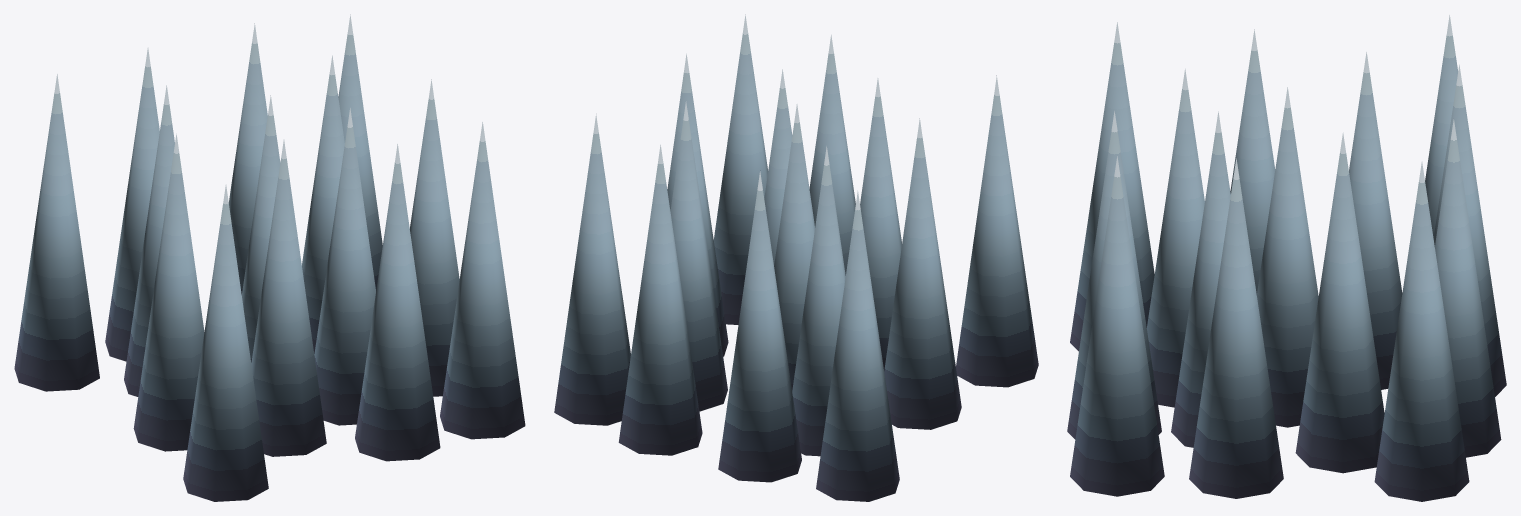
Rendered from Spikes.glb.
3 renders of one model, left to right at view 1: azimuth 30°, elevation 25°; view 2: azimuth 150°, elevation 25°; view 3: azimuth 270°, elevation 25°, orthographic. The views are drawn at different scales.
Parts seen in each view (by area): view 1: Cone; view 2: Cone; view 3: Cone.
Part boxes in pixels (x1,y1,x2,y2): Cone: [14, 14, 525, 501]; Cone: [554, 14, 1038, 501]; Cone: [1067, 15, 1506, 501].
Size of the model in its own units: 0.4685 by 0.377 by 0.4671.
Materials: 1 (1 with a texture image).
